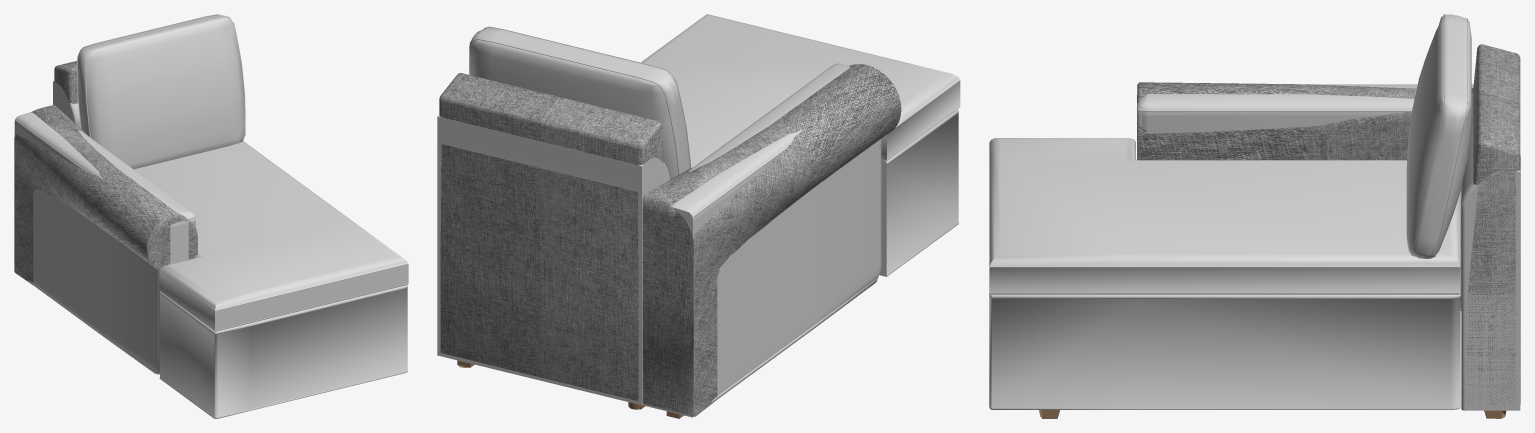
The model's file is chaiseR.gltf.
3 views of the same model, side by side, from view 1: azimuth 30°, elevation 25°; view 2: azimuth 150°, elevation 25°; view 3: azimuth 270°, elevation 25° (orthographic). The views are drawn at different scales.
Parts seen in each view (by area): view 1: ChaiseSeat, Bottom, pillow, Armrest, ArmrestR, Back2, Sweep, back.1; view 2: Back2, ArmrestR, Armrest, ChaiseSeat, pillow, back.1, Bottom, Sweep; view 3: ChaiseSeat, Bottom, Back2, ArmrestR, back.1, pillow, Armrest, Sweep.
Boxes of the visible parts, x1=… form: ChaiseSeat: x1=134, y1=141, x2=408, y2=331; Bottom: x1=159, y1=285, x2=407, y2=418; pillow: x1=77, y1=14, x2=244, y2=169; Armrest: x1=14, y1=112, x2=195, y2=374; ArmrestR: x1=14, y1=105, x2=197, y2=284; Back2: x1=54, y1=61, x2=77, y2=103; Sweep: x1=77, y1=14, x2=245, y2=141; back.1: x1=53, y1=81, x2=80, y2=127; Back2: x1=439, y1=73, x2=663, y2=400; ArmrestR: x1=642, y1=64, x2=901, y2=416; Armrest: x1=642, y1=63, x2=881, y2=417; ChaiseSeat: x1=641, y1=14, x2=960, y2=168; pillow: x1=469, y1=27, x2=690, y2=179; back.1: x1=437, y1=115, x2=669, y2=405; Bottom: x1=879, y1=109, x2=958, y2=276; Sweep: x1=469, y1=26, x2=690, y2=174; ChaiseSeat: x1=989, y1=138, x2=1460, y2=294; Bottom: x1=989, y1=294, x2=1460, y2=409; Back2: x1=1466, y1=44, x2=1520, y2=406; ArmrestR: x1=1137, y1=82, x2=1461, y2=310; back.1: x1=1461, y1=88, x2=1520, y2=410; pillow: x1=1406, y1=14, x2=1471, y2=258; Armrest: x1=1137, y1=84, x2=1473, y2=309; Sweep: x1=1411, y1=14, x2=1467, y2=256.
Bounding box in the file's own units: 0.8142 × 0.9082 × 1.37.
Materials: 4 (1 with a texture image).
